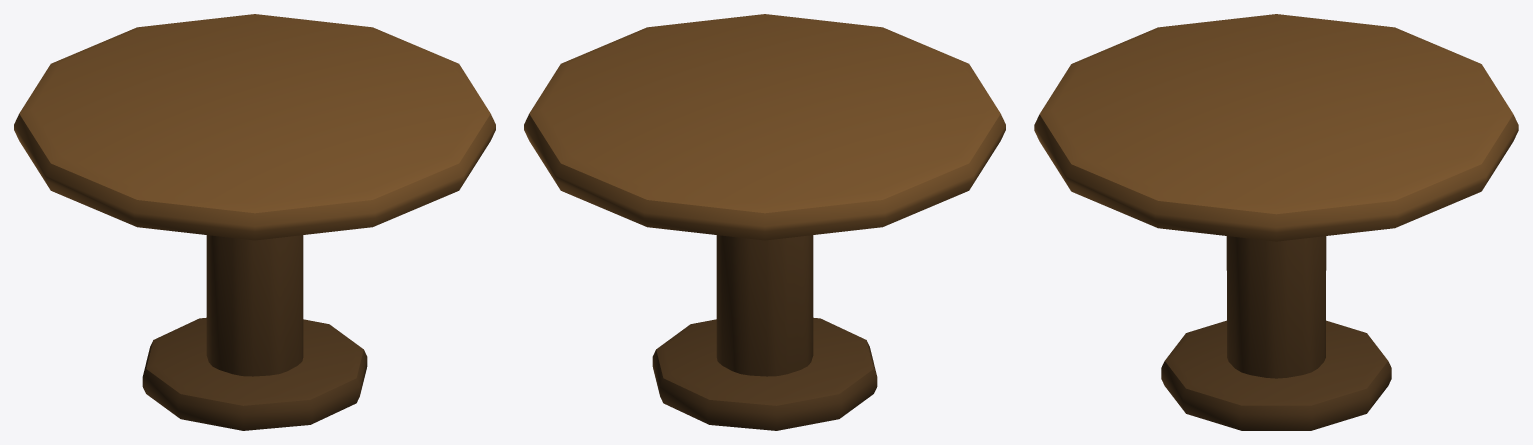
The model's file is prop_table.glb.
3 views of the same model, side by side, from view 1: azimuth 30°, elevation 25°; view 2: azimuth 150°, elevation 25°; view 3: azimuth 270°, elevation 25° (orthographic).
Parts seen in each view (by area): view 1: table_top, table_base, table_leg; view 2: table_top, table_base, table_leg; view 3: table_top, table_base, table_leg.
Boxes of the visible parts, bbox=[...] form: table_top: bbox=[14, 14, 495, 240]; table_base: bbox=[142, 317, 367, 430]; table_leg: bbox=[206, 235, 303, 376]; table_top: bbox=[524, 14, 1005, 240]; table_base: bbox=[652, 317, 877, 430]; table_leg: bbox=[716, 235, 813, 376]; table_top: bbox=[1034, 14, 1518, 241]; table_base: bbox=[1161, 320, 1391, 430]; table_leg: bbox=[1226, 236, 1326, 378].
Size of the model in its own units: 0.84 by 0.535 by 0.84.
